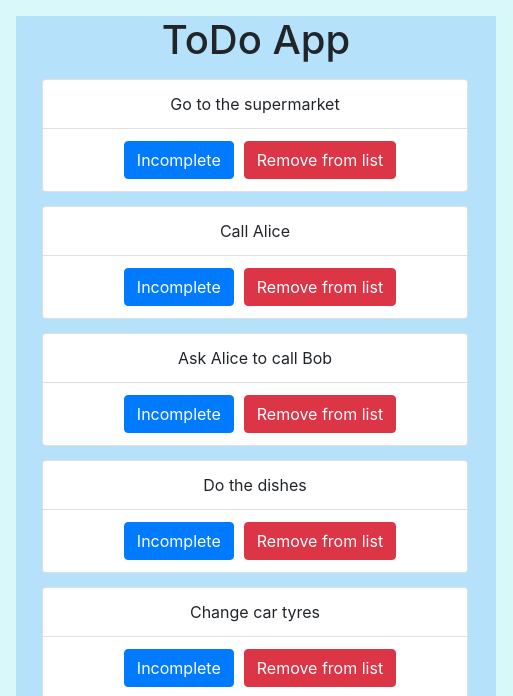
Test: Todo App › clicking remove button works
Click the button "Remove from list" below "Go to the supermarket": [320, 160] box [244,141,396,179]
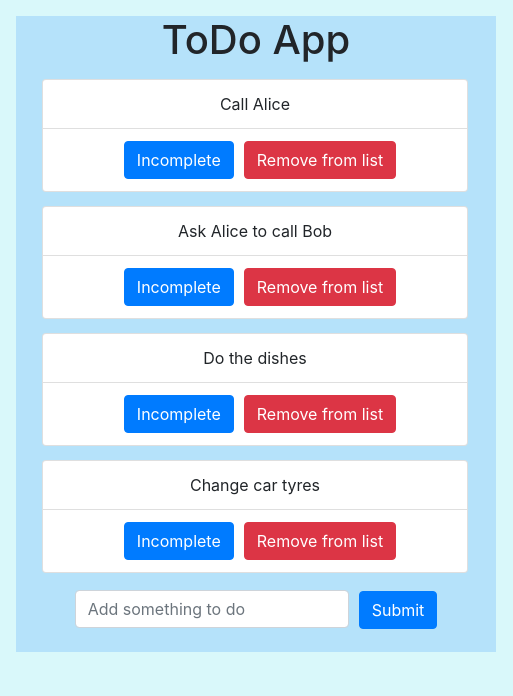
Expected: the text "Go to the supermarket" is gone
